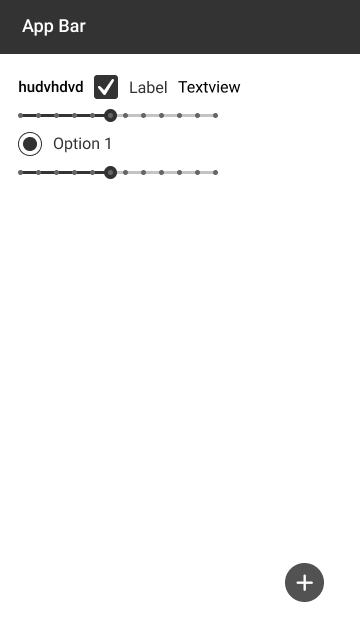checkBox: (92, 73, 170, 101)
floatingButton: (285, 562, 328, 603)
radioButton: (16, 132, 118, 159)
slider: (16, 163, 223, 185), (14, 108, 222, 123)
textView: (175, 76, 243, 101), (15, 75, 85, 98)
toolbar: (1, 1, 359, 54)
